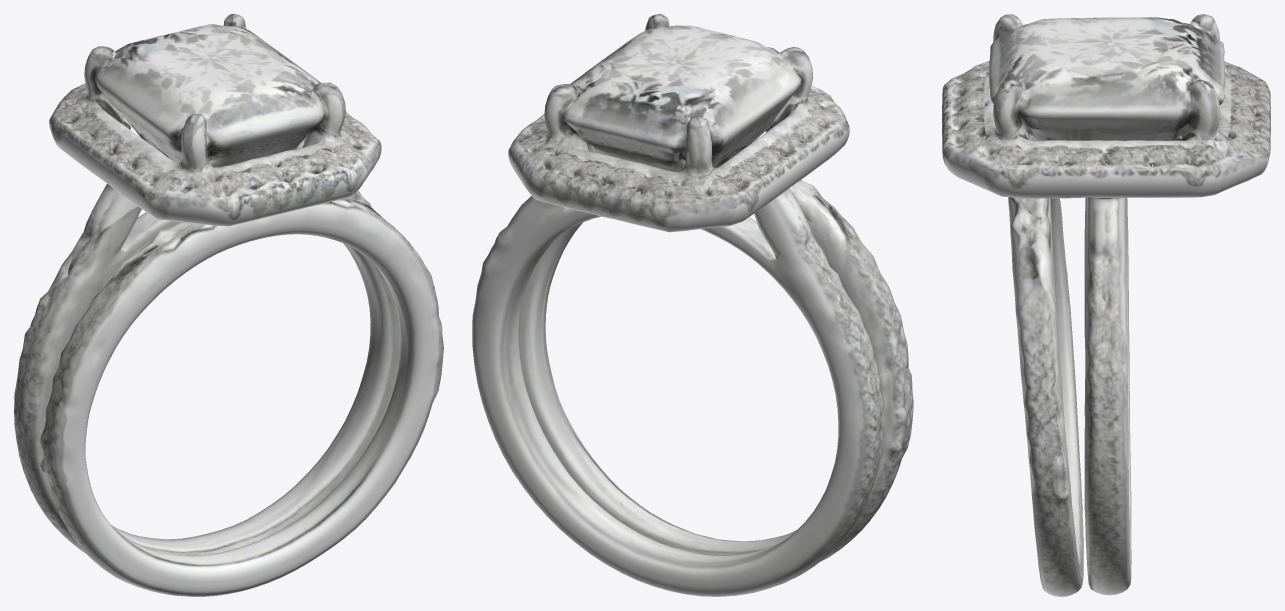
3 views of the same model, side by side, from view 1: azimuth 30°, elevation 25°; view 2: azimuth 150°, elevation 25°; view 3: azimuth 270°, elevation 25° (orthographic). The views are drawn at different scales.
Size of the model in its own units: 1.61 by 2 by 1.12.
Materials: 1 (1 with a texture image).
